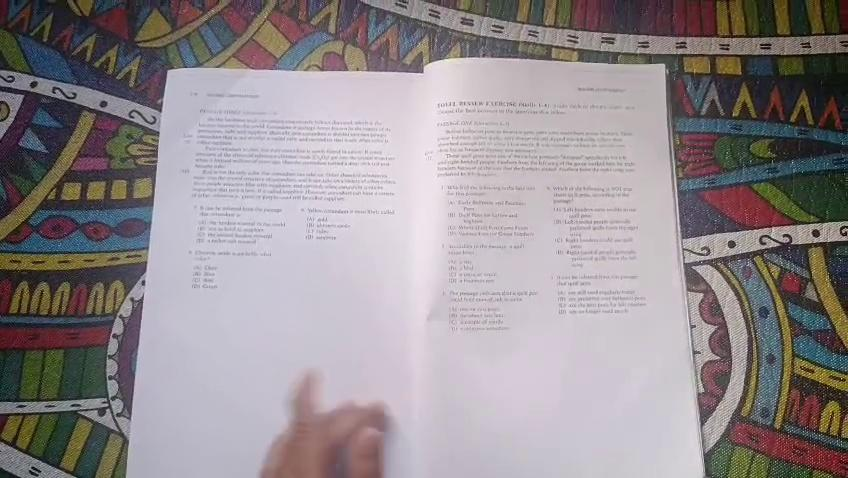Kertas: (420, 67, 667, 475), (168, 69, 420, 364)
